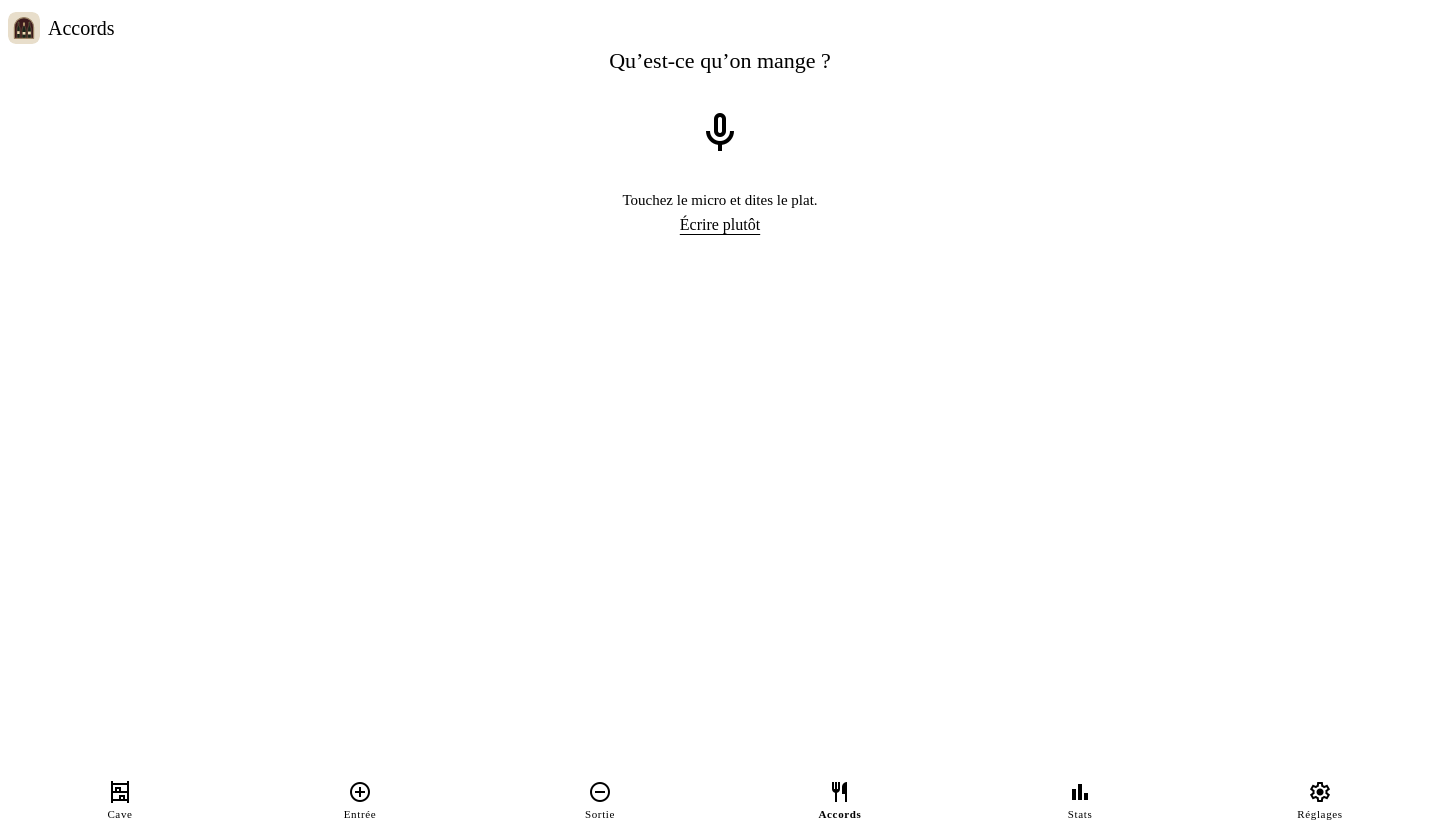
Test: « Écrire plutôt » montre le champ texte
This screenshot has width=1440, height=822.
Click the button "Écrire plutôt" at (720, 224), box [679,212,761,238]
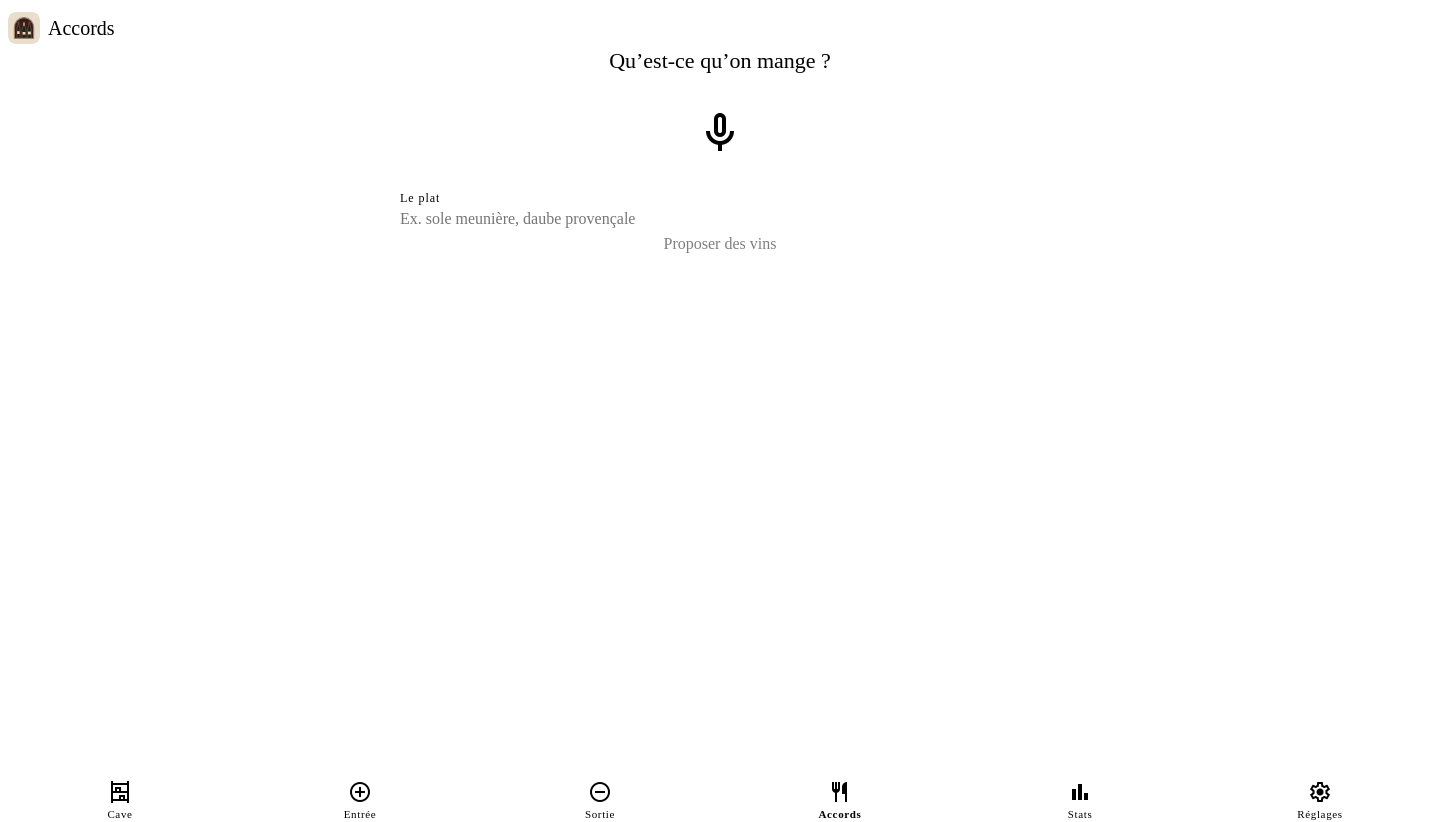
Expected: the field labelled "Le plat" is shown, [400,207,1040,231]
